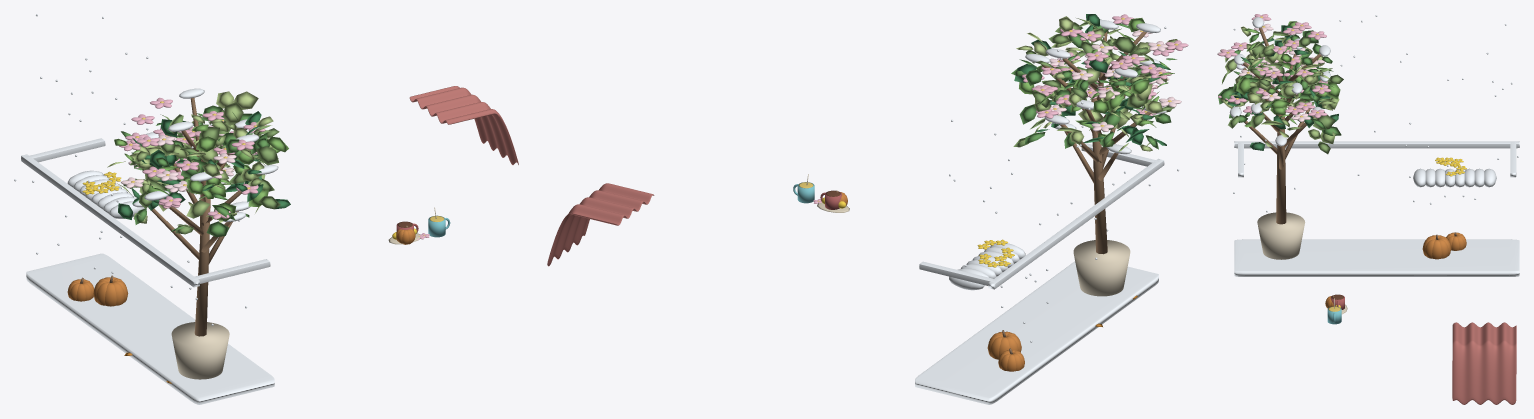
File: season-props.glb
The picture shows the model from 3 angles, left to right: view 1: azimuth 30°, elevation 25°; view 2: azimuth 150°, elevation 25°; view 3: azimuth 270°, elevation 25°; orthographic projection. The views are drawn at different scales.
Parts seen in each view (by area): view 1: Snow / balcony deck, Winter soft draped throw, Balcony tree / ceramic planter.001, Snow / balcony outer rail, Balcony tree / trunk.001, Snow / side rail.001, Snow / side rail; view 2: Snow / balcony deck, Winter soft draped throw, Balcony tree / ceramic planter.001, Snow / balcony outer rail, Balcony tree / trunk.001, Snow / side rail; view 3: Snow / balcony deck, Winter soft draped throw, Snow / balcony outer rail, Balcony tree / ceramic planter.001, Balcony tree / trunk.001.
Part boxes in pixels (x1,y1,x2,y2): Snow / balcony deck: [26, 253, 274, 404]; Winter soft draped throw: [409, 86, 518, 164]; Balcony tree / ceramic planter.001: [171, 322, 229, 379]; Snow / balcony outer rail: [21, 154, 199, 287]; Balcony tree / trunk.001: [194, 181, 210, 336]; Snow / side rail.001: [193, 259, 270, 283]; Snow / side rail: [25, 138, 105, 162]; Snow / balcony deck: [915, 261, 1158, 404]; Winter soft draped throw: [547, 183, 654, 266]; Balcony tree / ceramic planter.001: [1073, 240, 1130, 296]; Snow / balcony outer rail: [988, 159, 1164, 289]; Balcony tree / trunk.001: [1091, 98, 1107, 254]; Snow / side rail: [919, 261, 996, 285]; Snow / balcony deck: [1234, 239, 1519, 276]; Winter soft draped throw: [1452, 322, 1516, 404]; Snow / balcony outer rail: [1234, 141, 1519, 148]; Balcony tree / ceramic planter.001: [1257, 212, 1305, 259]; Balcony tree / trunk.001: [1276, 97, 1286, 224].
Size of the model in its own units: 4.4 by 2.39 by 2.78.
